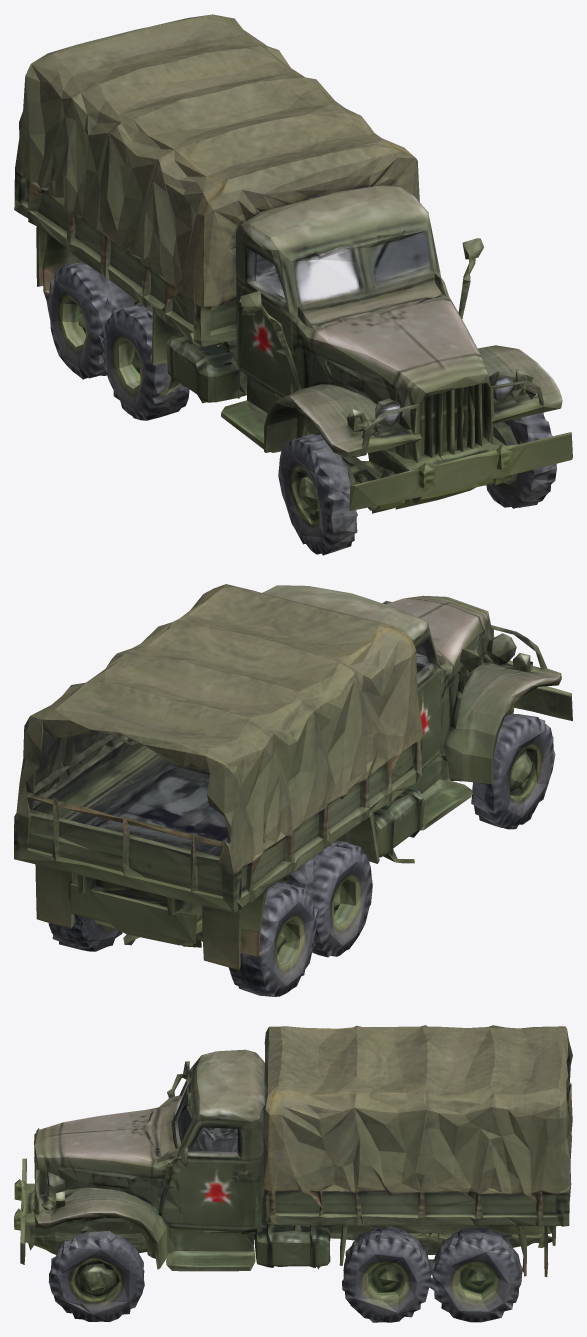
File: studebaker_hull.obj
3 renders of one model, top to bottom at view 1: azimuth 30°, elevation 25°; view 2: azimuth 150°, elevation 25°; view 3: azimuth 270°, elevation 25°, orthographic. The views are drawn at different scales.
Visible parts, largest first — view 1: studebaker_hull; view 2: studebaker_hull; view 3: studebaker_hull.
Part boxes in pixels (<box>): studebaker_hull: <box>14,14,572,555</box>; studebaker_hull: <box>14,584,572,996</box>; studebaker_hull: <box>14,1025,572,1322</box>.
Size of the model in its own units: 2.7 by 2.95 by 6.55.
Materials: 1 (1 with a texture image).
